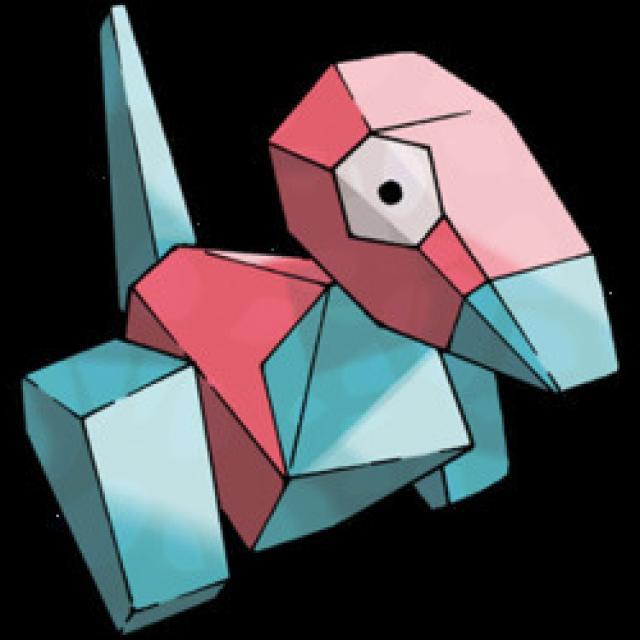Porygon: (96, 46, 608, 502)
